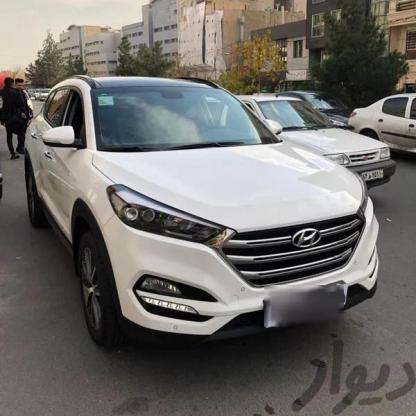Car: (20, 81, 380, 366), (229, 86, 400, 202), (341, 91, 416, 158), (41, 87, 52, 100), (34, 87, 43, 99)
